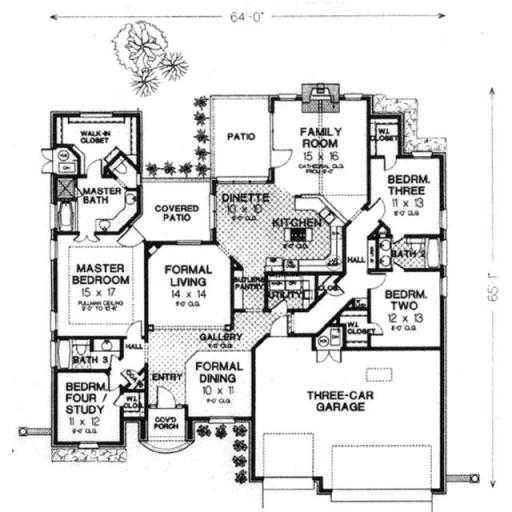Room: (278, 105, 368, 194), (151, 250, 232, 331), (188, 356, 248, 422)
bathroom: (58, 153, 139, 241), (56, 335, 124, 372), (376, 238, 441, 272)
bedroom: (58, 247, 142, 332), (370, 158, 444, 234), (55, 370, 120, 444), (373, 278, 439, 350)
garage: (256, 339, 448, 493)
kitchen: (218, 186, 336, 273)
